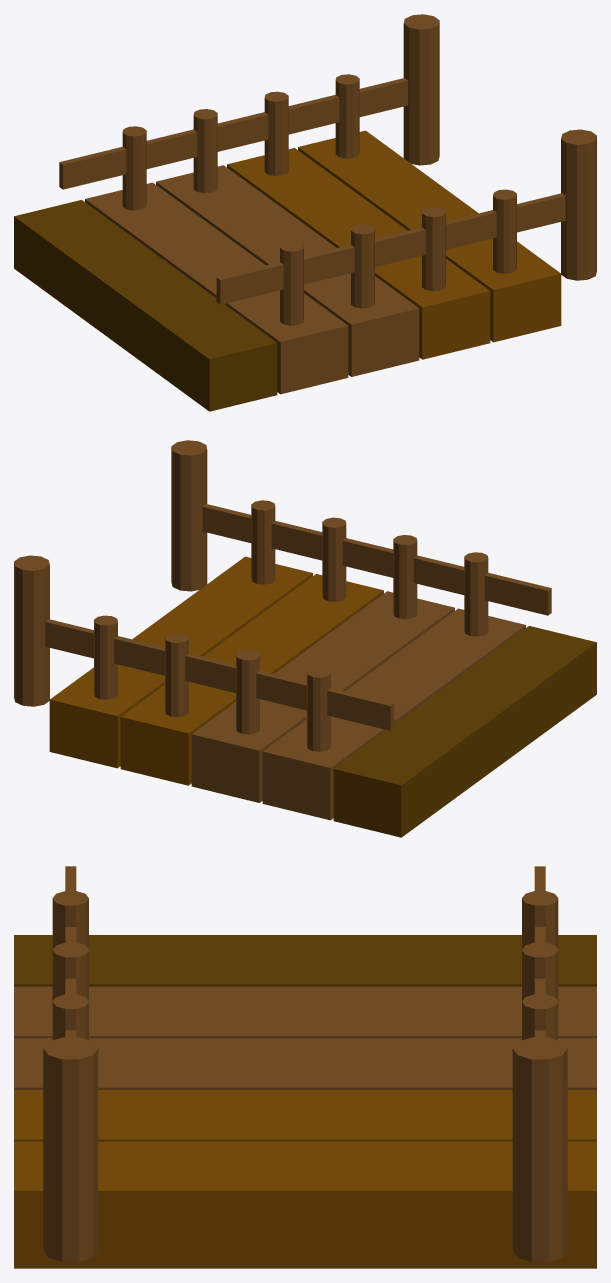
Rendered from BridgeStart.fbx.
The picture shows the model from 3 angles, top to bottom: view 1: azimuth 30°, elevation 25°; view 2: azimuth 150°, elevation 25°; view 3: azimuth 270°, elevation 25°; orthographic projection. The views are drawn at different scales.
Parts seen in each view (by area): view 1: BridgeEndWide.001; view 2: BridgeEndWide.001; view 3: BridgeEndWide.001.
Boxes of the visible parts, <box> form: BridgeEndWide.001: <box>14,14,596,411</box>; BridgeEndWide.001: <box>14,440,596,837</box>; BridgeEndWide.001: <box>14,866,596,1268</box>.
Bounding box in the file's own units: 1137 × 446 × 954.
